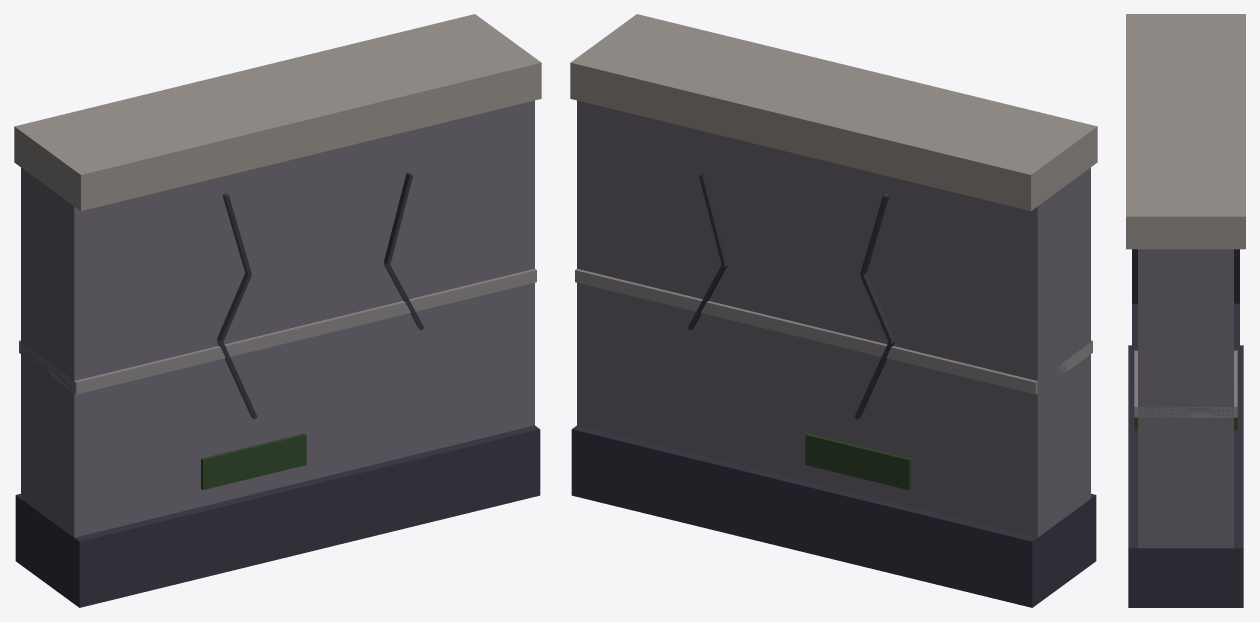
The model's file is wall_cracked.fbx.
The picture shows the model from 3 angles, left to right: view 1: azimuth 30°, elevation 25°; view 2: azimuth 150°, elevation 25°; view 3: azimuth 270°, elevation 25°; orthographic projection. The views are drawn at different scales.
Parts seen in each view (by area): view 1: wall_cracked; view 2: wall_cracked; view 3: wall_cracked.
Part boxes in pixels (x1=…): wall_cracked: x1=14, y1=14, x2=541, y2=607; wall_cracked: x1=570, y1=14, x2=1097, y2=607; wall_cracked: x1=1126, y1=14, x2=1245, y2=607.
Size of the model in its own units: 4 by 3.6 by 1.
